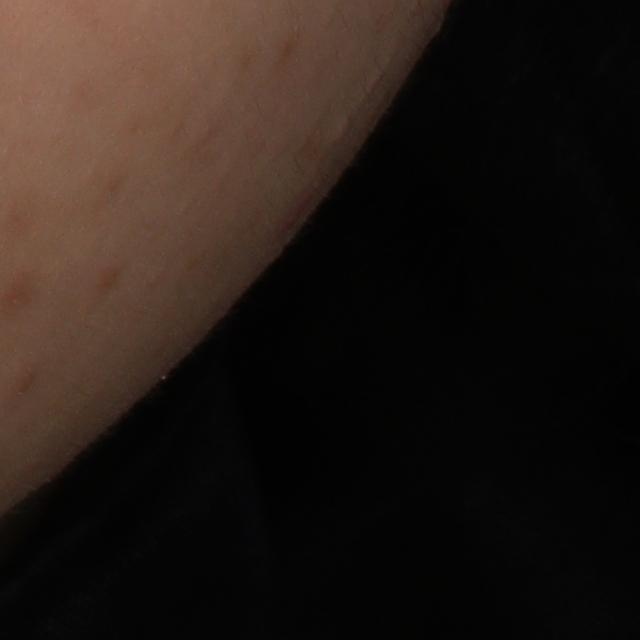papule: (10, 365, 35, 398)
